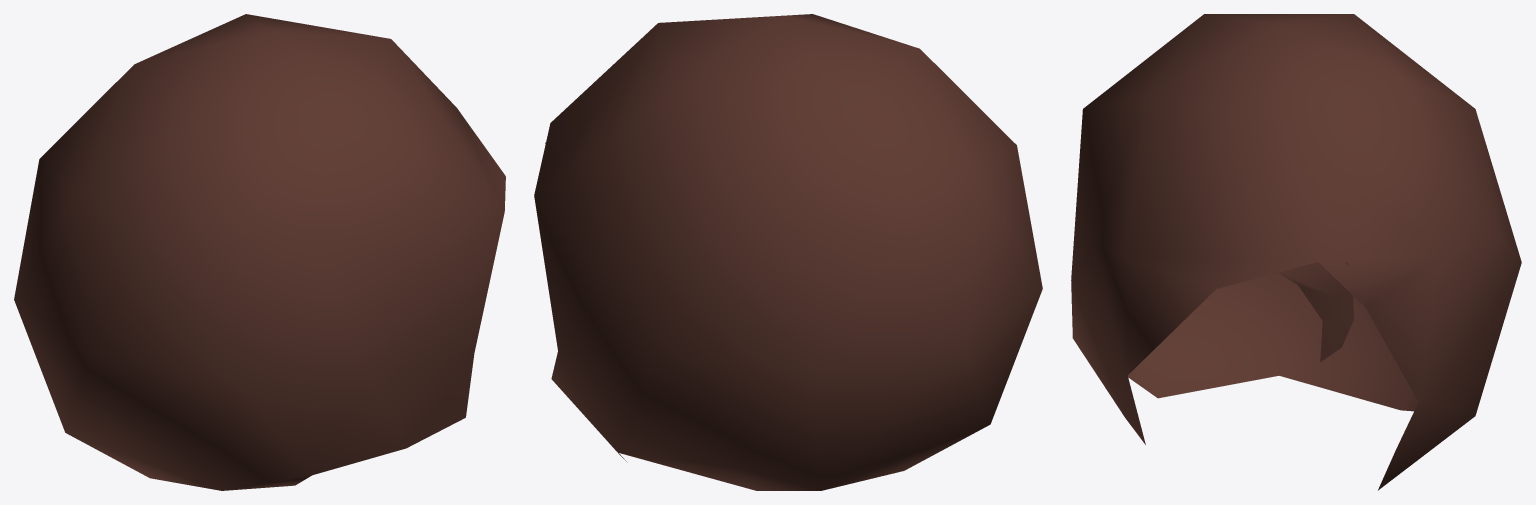
The model's file is AdaHair.glb.
The picture shows the model from 3 angles, left to right: view 1: azimuth 30°, elevation 25°; view 2: azimuth 150°, elevation 25°; view 3: azimuth 270°, elevation 25°; orthographic projection. The views are drawn at different scales.
Visible parts, largest first — view 1: AdaHair; view 2: AdaHair; view 3: AdaHair.
Boxes of the visible parts, bbox=[...] form: AdaHair: bbox=[14, 14, 505, 490]; AdaHair: bbox=[534, 14, 1042, 490]; AdaHair: bbox=[1071, 14, 1521, 490].
Size of the model in its own units: 6.32 by 6.08 by 5.93.
